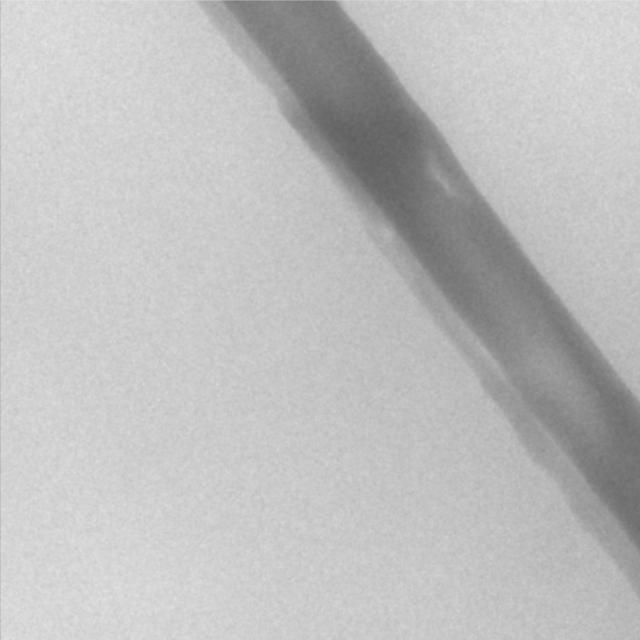unfused: (526, 329, 613, 440), (424, 134, 476, 208)
